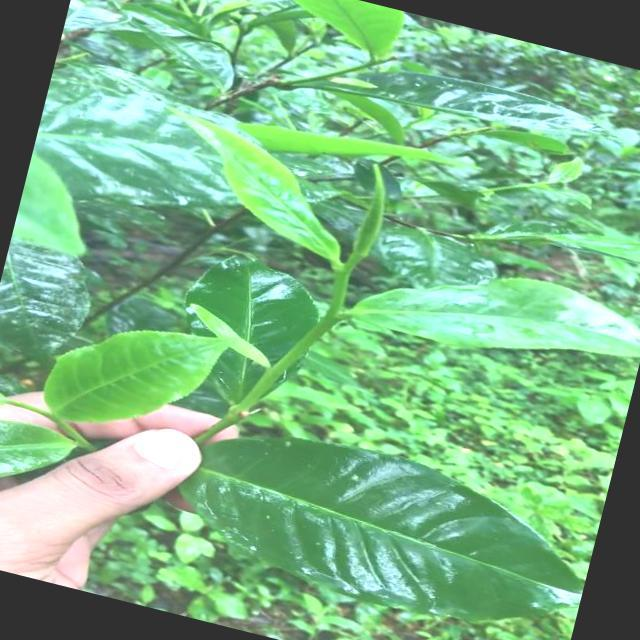Stem: (300, 312, 338, 349)
